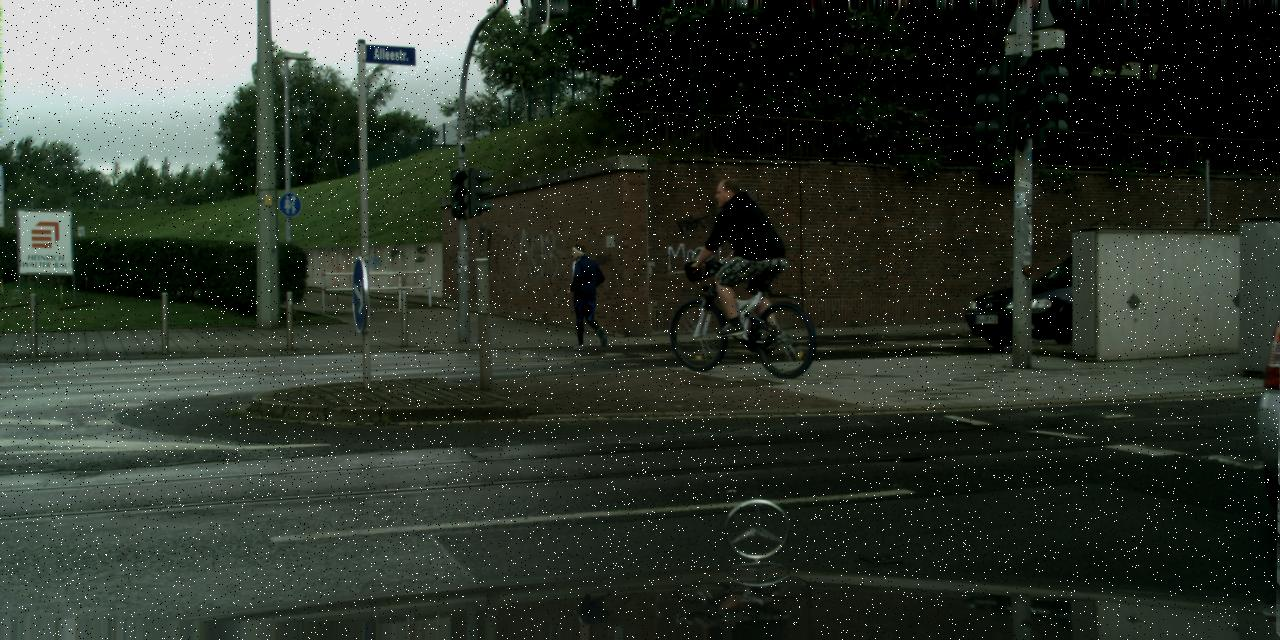ped: (712, 180, 780, 346), (564, 243, 607, 349)
